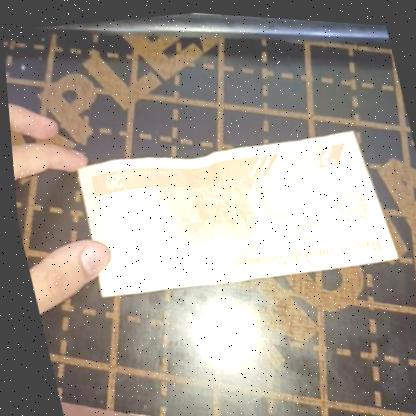twenty-back-vef: (63, 106, 401, 311)
